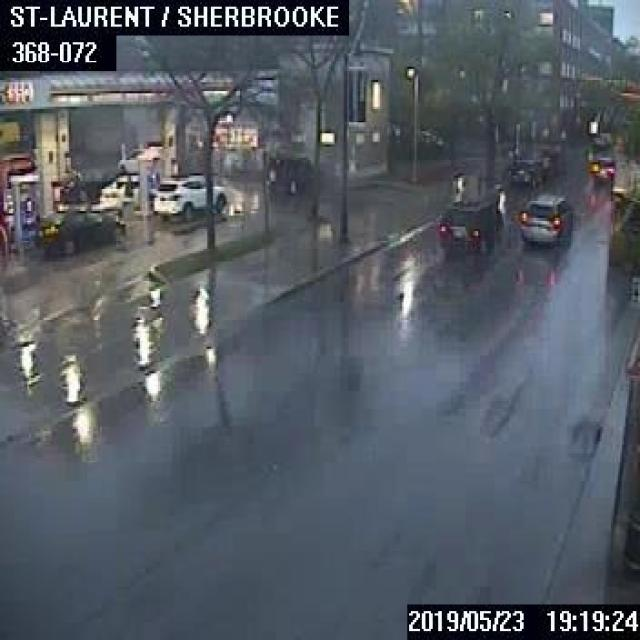vehicle: (433, 181, 502, 251), (32, 211, 124, 255), (152, 172, 225, 218), (516, 193, 569, 247), (264, 155, 315, 192), (98, 172, 154, 205), (115, 146, 174, 174), (507, 157, 544, 185), (586, 153, 612, 178)
